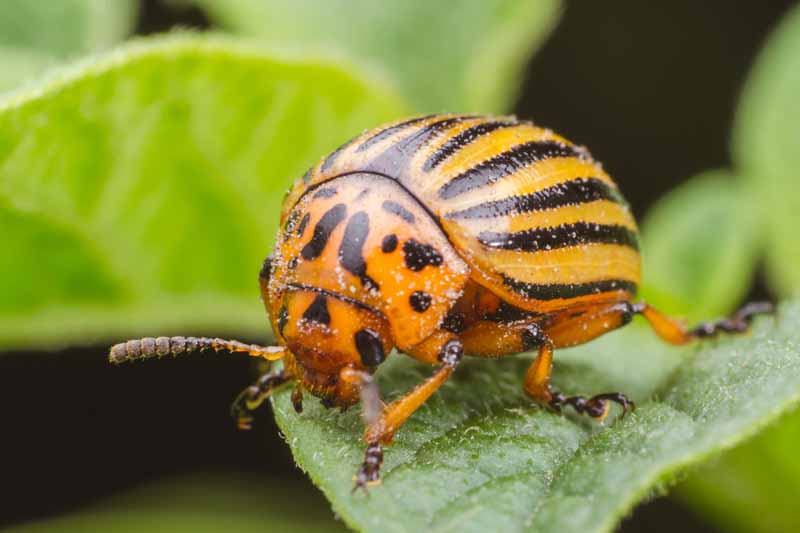Colorado Potato Beetle: (105, 110, 785, 500)
